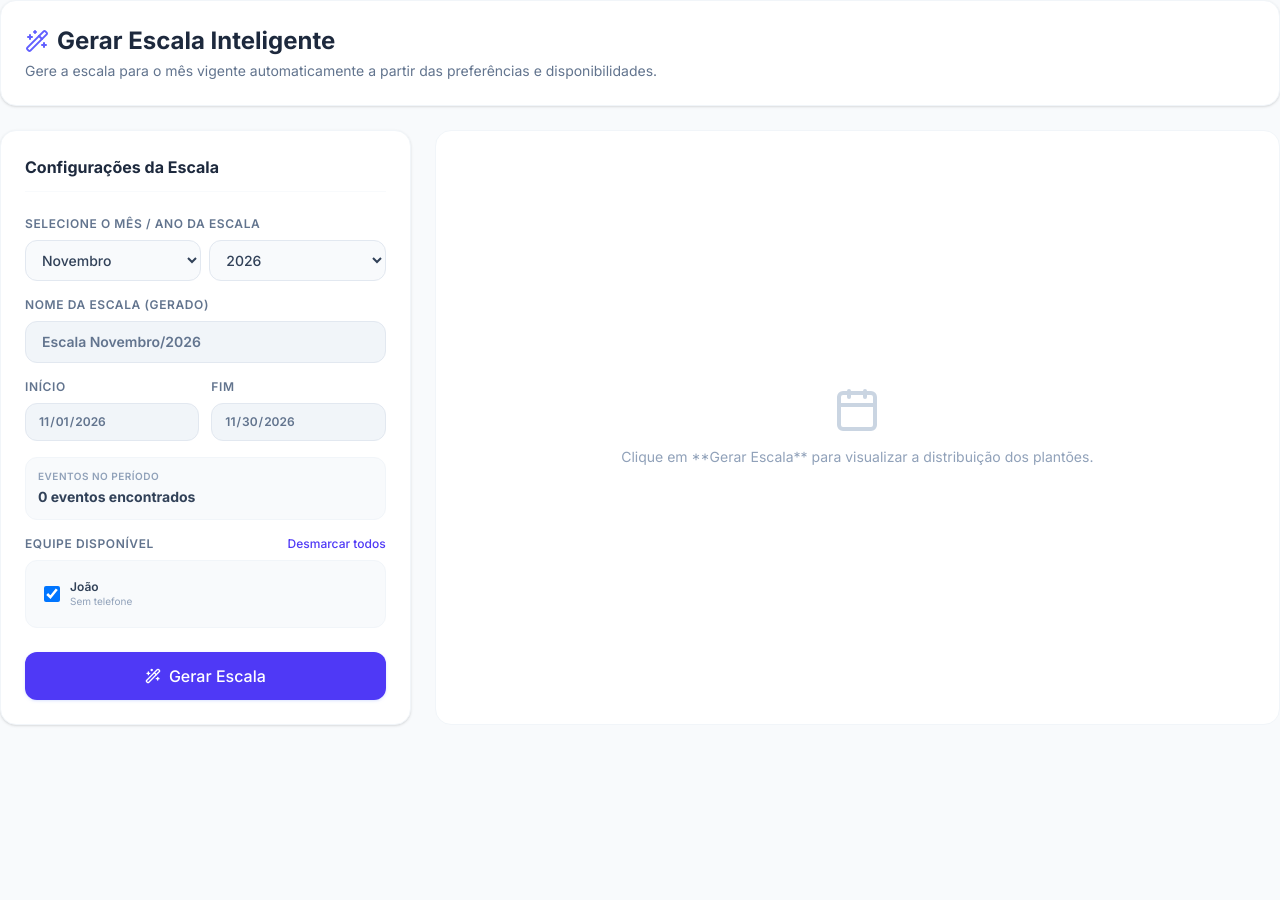
Test case: GeradorEscala Component › deve renderizar o gerador de escala e responder à mudanca de mes
Mudar mês para Agosto (mês 8)
Select "Agosto" in the 1st dropdown: (113, 260) [25, 240, 201, 281]
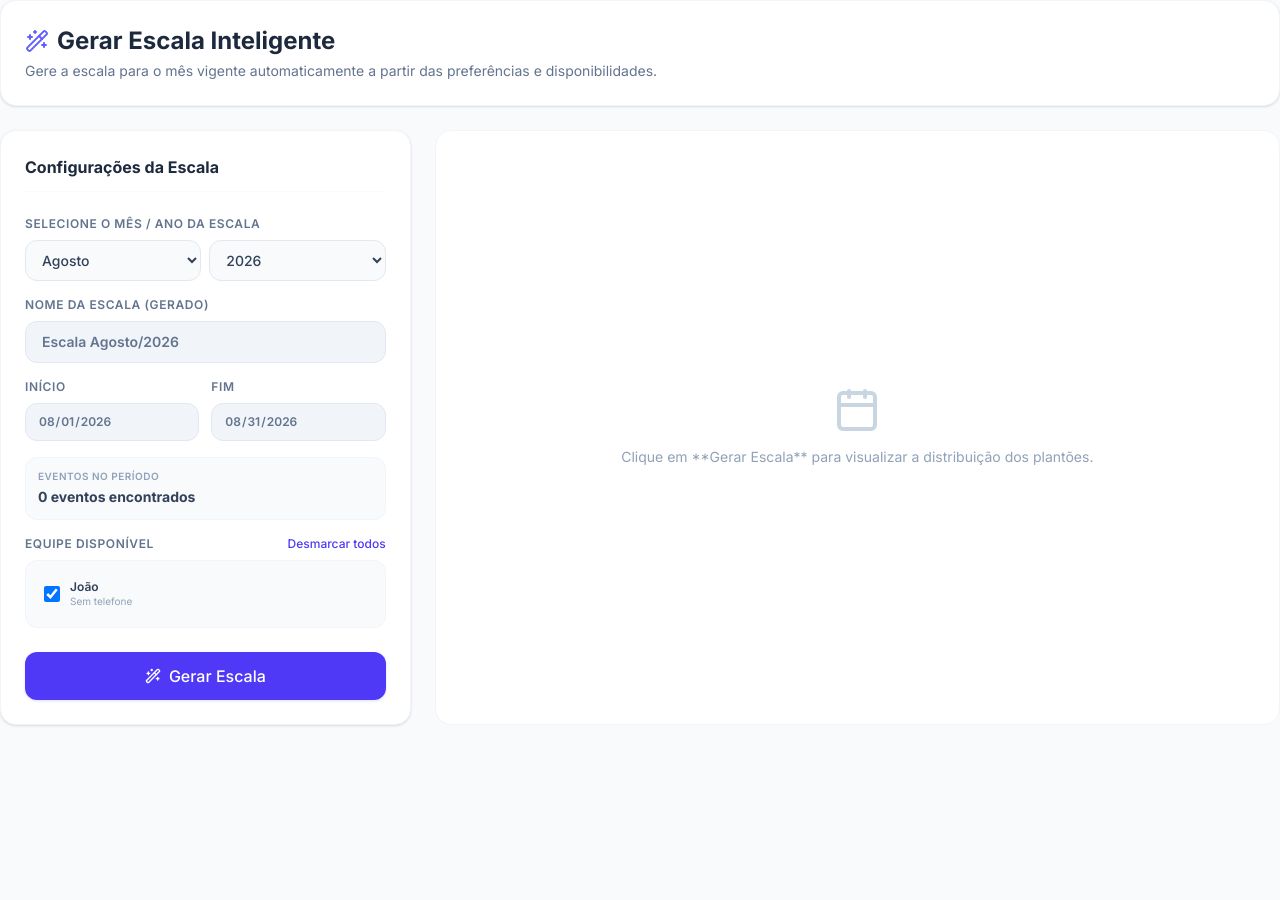
Now the field showing "Escala Agosto" is shown, box [25, 321, 386, 363]
